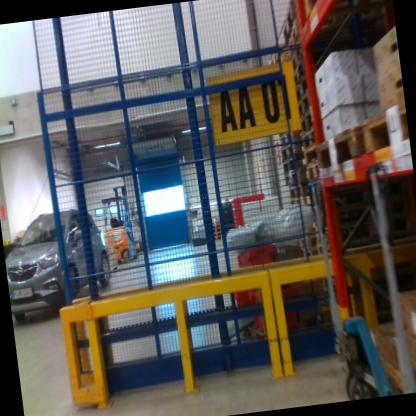forklift: (94, 174, 139, 268)
pallet: (310, 119, 367, 179), (357, 106, 410, 158), (299, 0, 393, 29), (272, 16, 308, 74), (313, 220, 347, 261), (275, 0, 302, 47), (283, 168, 312, 199), (293, 89, 320, 119), (321, 275, 346, 307), (276, 126, 304, 152), (295, 106, 319, 136), (294, 229, 319, 254), (281, 155, 305, 178), (279, 142, 302, 165), (304, 161, 324, 185), (301, 124, 318, 152), (291, 80, 312, 102), (301, 140, 321, 163), (291, 59, 307, 86), (289, 196, 314, 211), (211, 222, 221, 227), (212, 231, 224, 235), (213, 235, 221, 241), (212, 228, 223, 232)
pallet_truck: (293, 132, 393, 402), (353, 148, 416, 392)
small_load_carrier: (241, 279, 306, 337), (231, 236, 289, 284), (226, 278, 252, 324)
